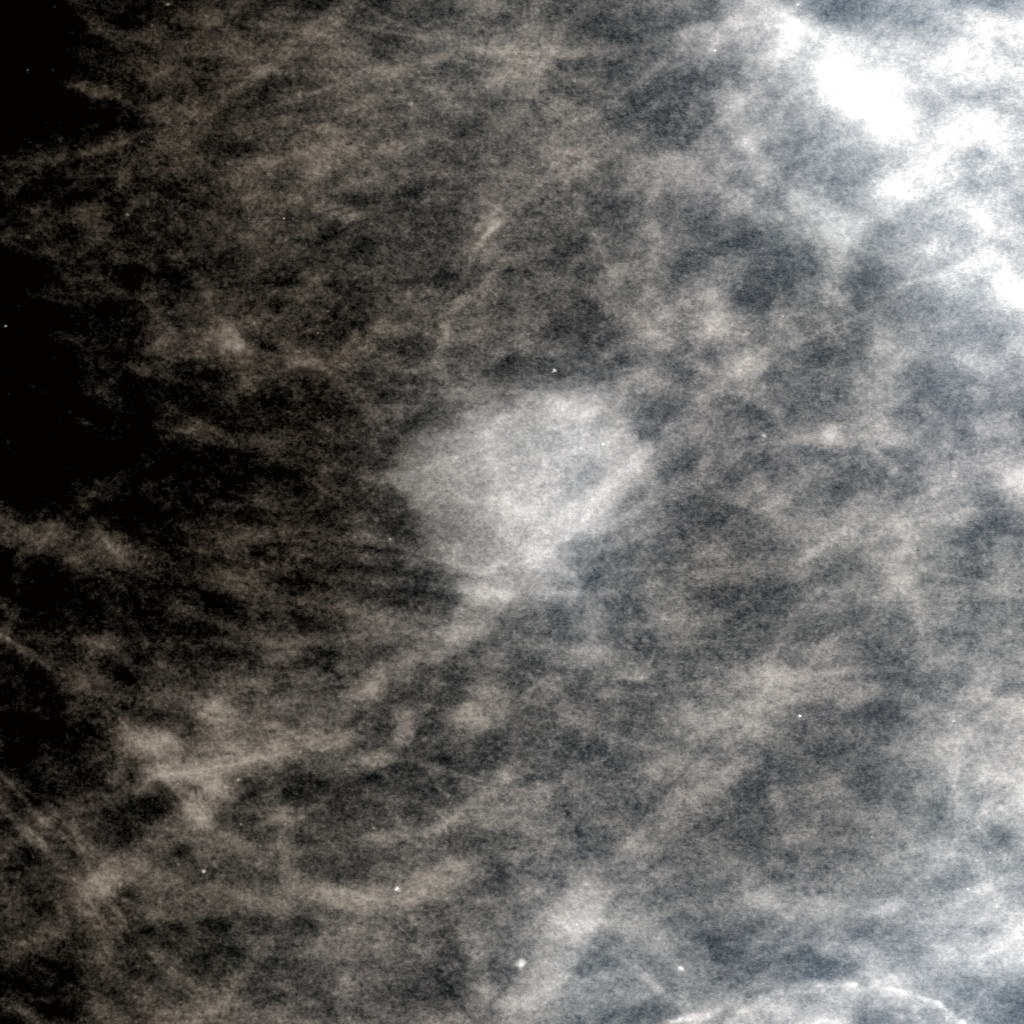tumor: (362, 378, 662, 646)
